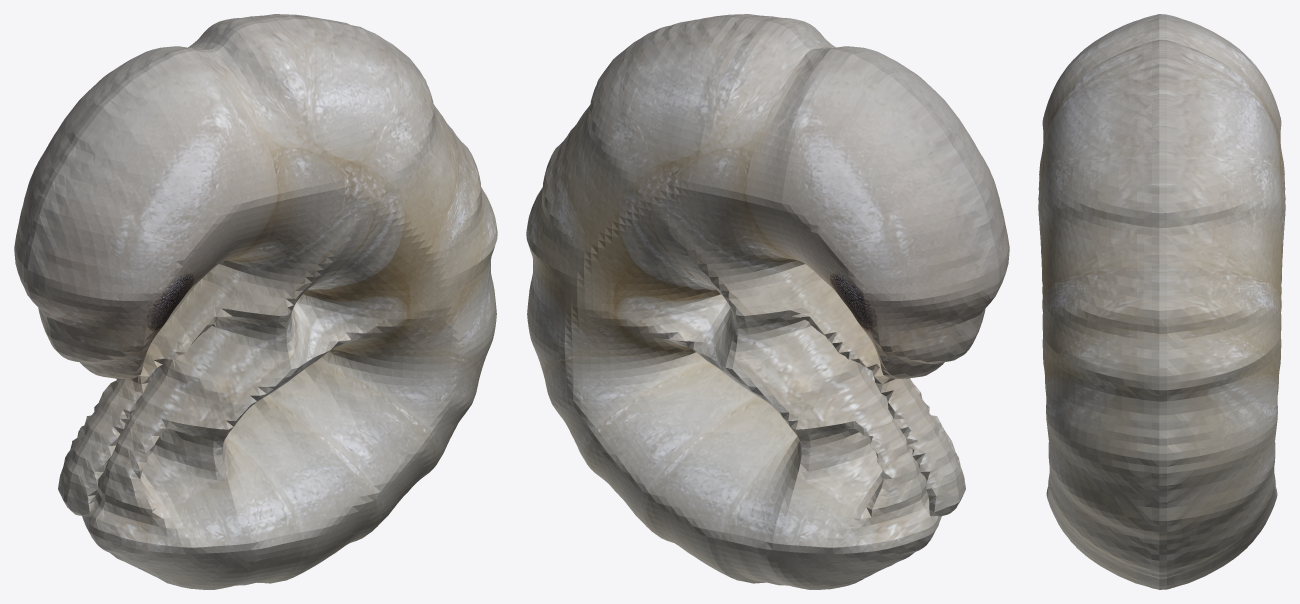
The model's file is pupa_white.glb.
3 views of the same model, side by side, from view 1: azimuth 30°, elevation 25°; view 2: azimuth 150°, elevation 25°; view 3: azimuth 270°, elevation 25° (orthographic). The views are drawn at different scales.
Visible parts, largest first — view 1: pupa_white; view 2: pupa_white; view 3: pupa_white.
Boxes of the visible parts, x1,y1,x2,y2 form: pupa_white: (14, 14, 497, 589); pupa_white: (526, 14, 1009, 589); pupa_white: (1038, 14, 1285, 589).
Bounding box in the file's own units: 0.9372 × 1.08 × 0.4585.
1 material, 1 textured.
